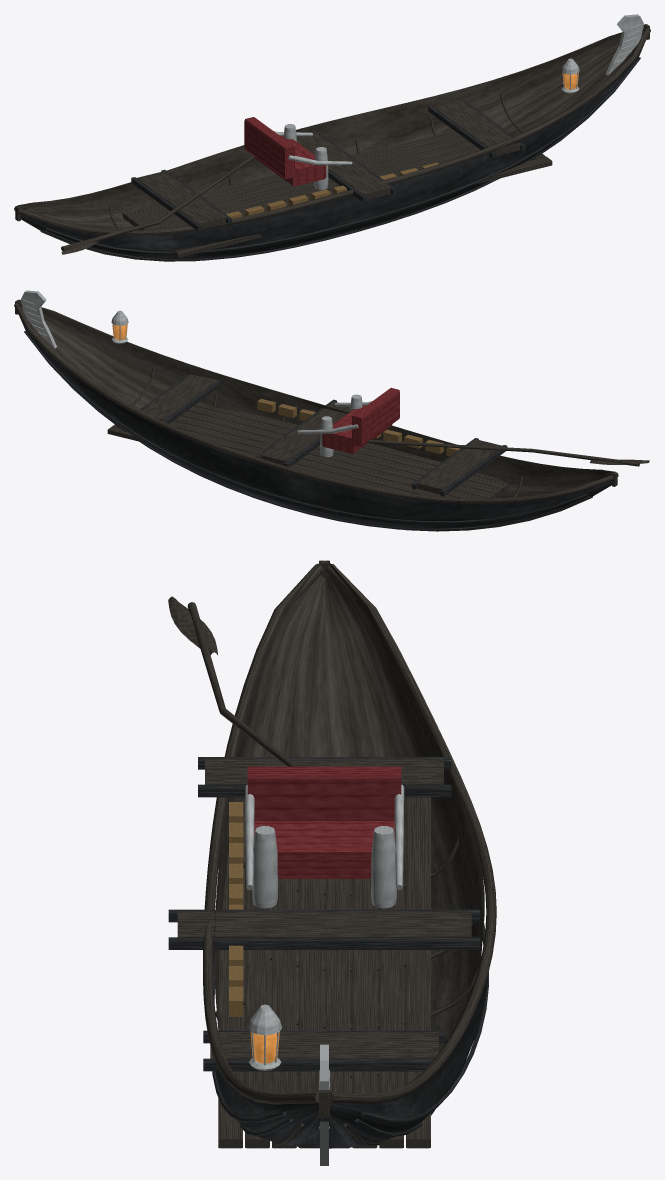
File: venice_gondola.glb
3 renders of one model, top to bottom at view 1: azimuth 30°, elevation 25°; view 2: azimuth 150°, elevation 25°; view 3: azimuth 270°, elevation 25°, orthographic. The views are drawn at different scales.
Visible parts, largest first — view 1: venice_gondola; view 2: venice_gondola; view 3: venice_gondola.
Boxes of the visible parts, x1,y1,x2,y2 form: venice_gondola: (14,14,650,261); venice_gondola: (14,290,649,531); venice_gondola: (168,560,496,1165).
Size of the model in its own units: 5.4 by 1.15 by 1.28.
Materials: 2 (2 with a texture image).
